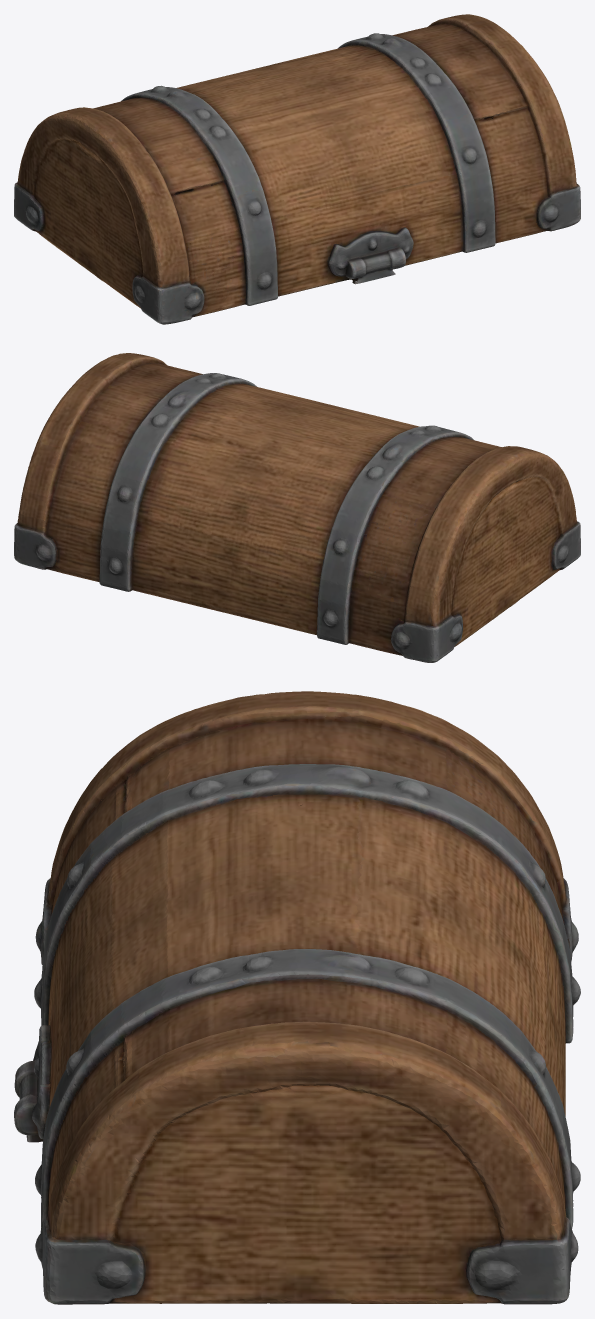
Rendered from lid.glb.
3 renders of one model, top to bottom at view 1: azimuth 30°, elevation 25°; view 2: azimuth 150°, elevation 25°; view 3: azimuth 270°, elevation 25°, orthographic. The views are drawn at different scales.
Visible parts, largest first — view 1: source_surface_0; view 2: source_surface_0; view 3: source_surface_0.
Part boxes in pixels (bbox=[...]): source_surface_0: bbox=[14, 14, 580, 324]; source_surface_0: bbox=[14, 353, 580, 662]; source_surface_0: bbox=[14, 691, 580, 1304].
Bounding box in the file's own units: 0.5773 × 0.1894 × 0.3709.
1 material, 1 textured.
